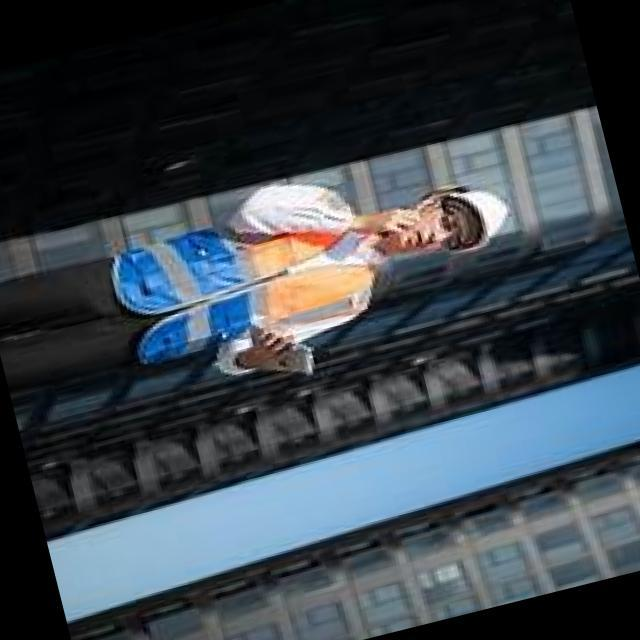not-gloved: (238, 322, 310, 376), (354, 198, 420, 242)
